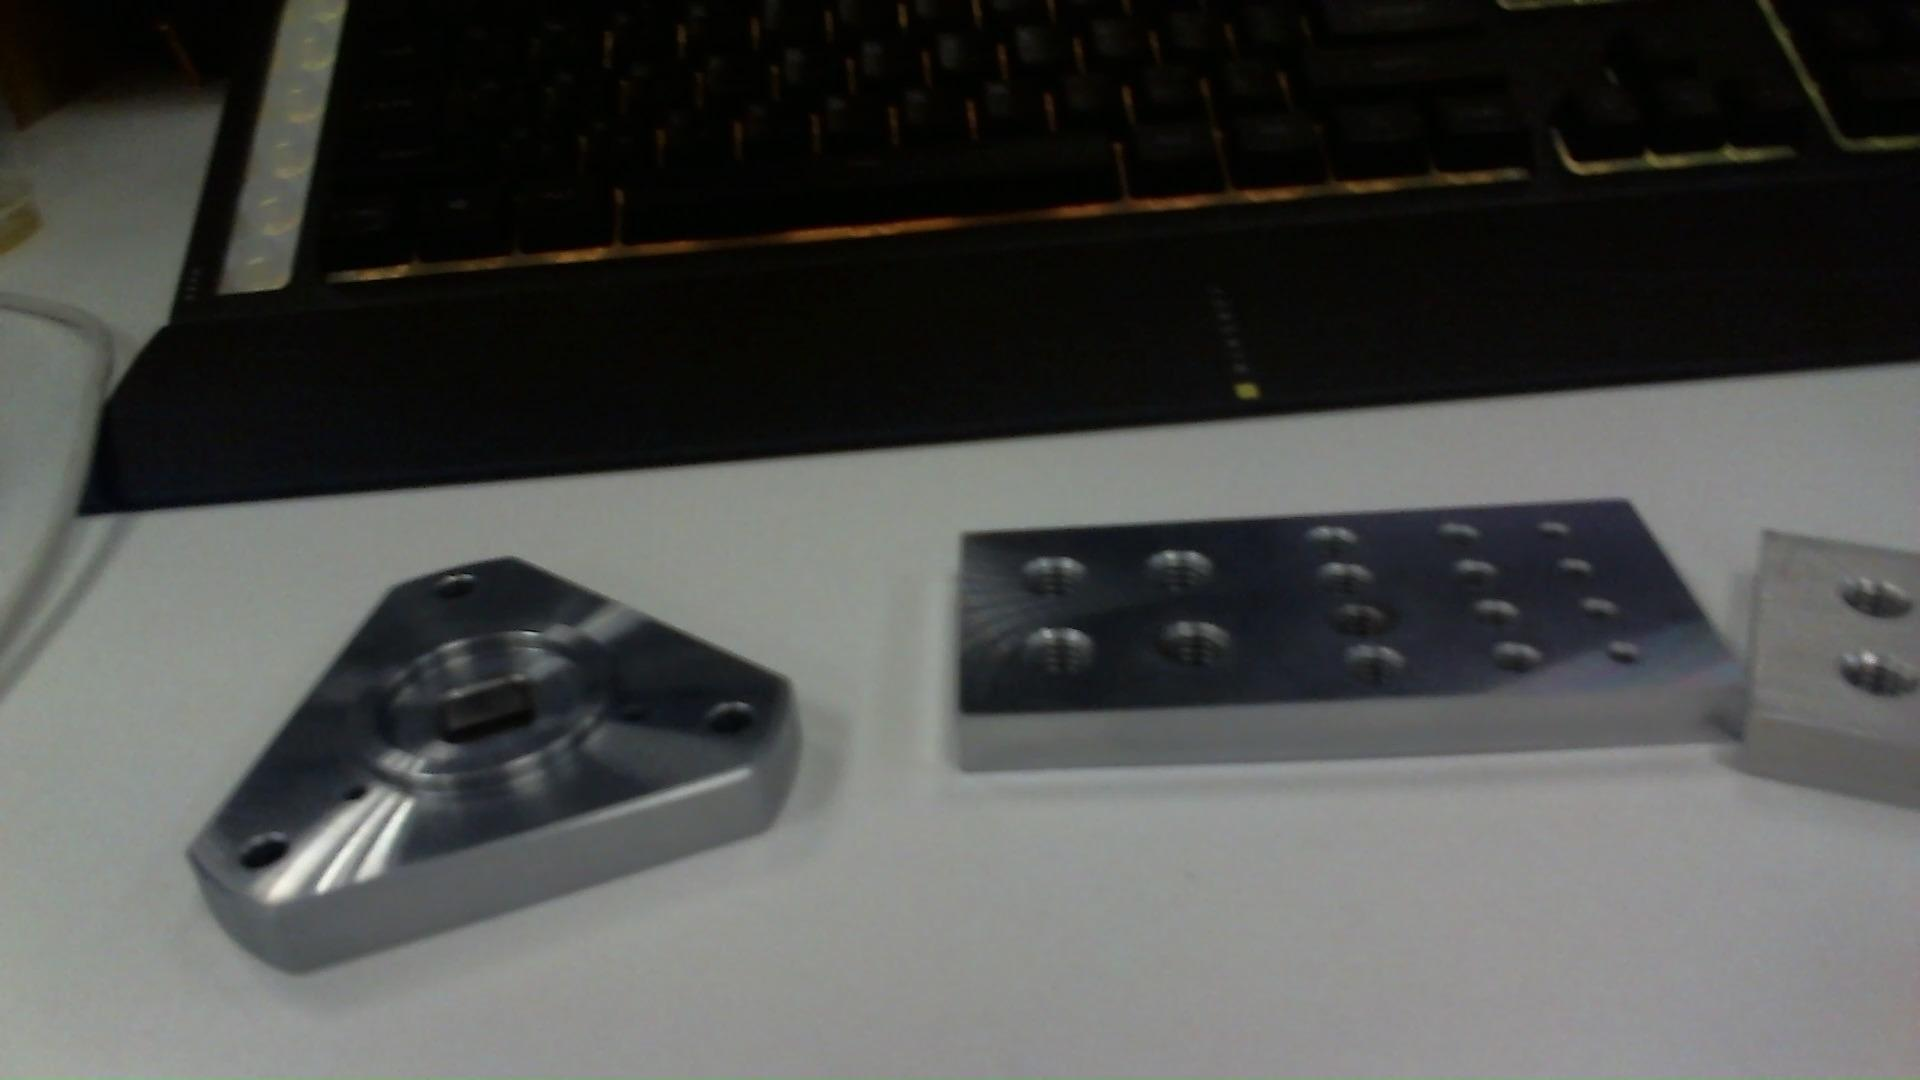hole: (1822, 563, 1920, 629), (1826, 649, 1920, 707), (1145, 620, 1237, 676), (1006, 625, 1088, 688), (1009, 550, 1088, 605), (1146, 542, 1218, 600), (1324, 597, 1402, 645), (1332, 644, 1404, 694), (232, 823, 293, 877), (711, 702, 773, 750), (1464, 595, 1522, 636), (1300, 520, 1366, 555), (1481, 638, 1531, 684), (1311, 560, 1375, 595), (427, 568, 476, 611), (1600, 630, 1650, 670), (1429, 516, 1482, 553), (1448, 554, 1498, 592), (1573, 592, 1618, 630), (1547, 555, 1597, 588), (1532, 513, 1577, 543), (624, 707, 662, 741), (332, 777, 376, 804)
